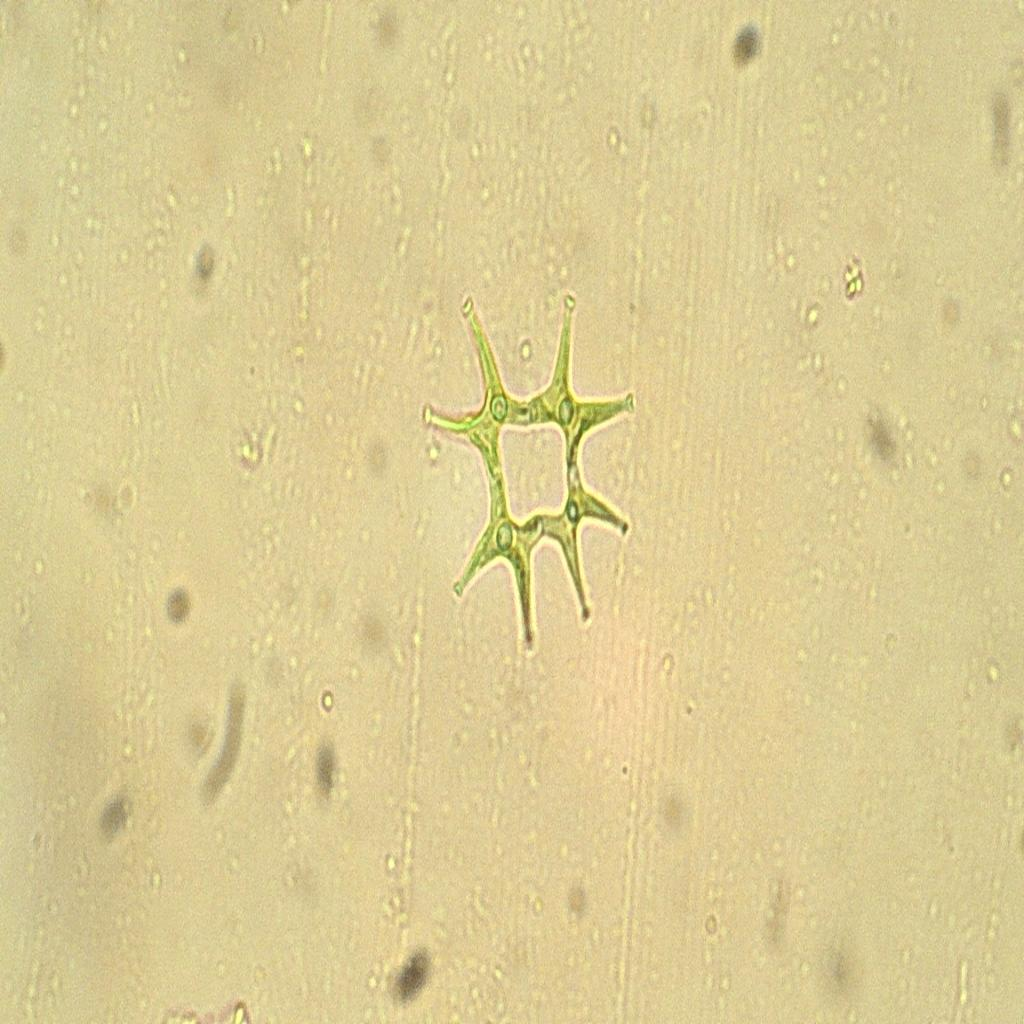Pediastrum_75O: (415, 285, 651, 657)
